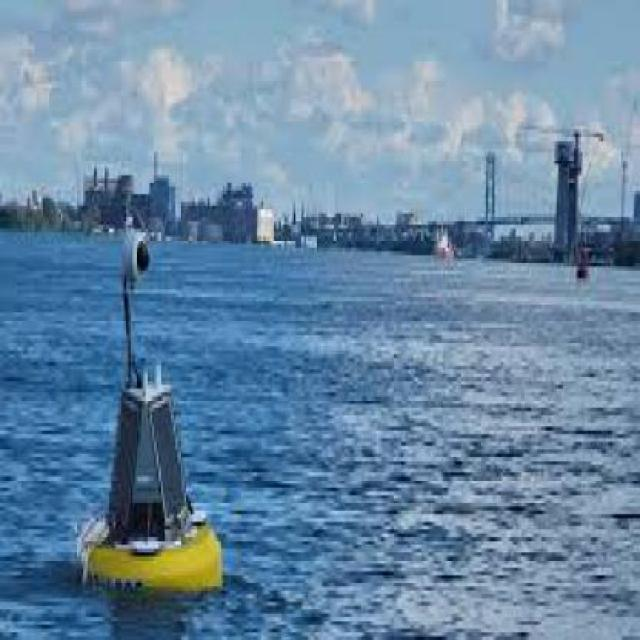buoy: (91, 226, 237, 603)
